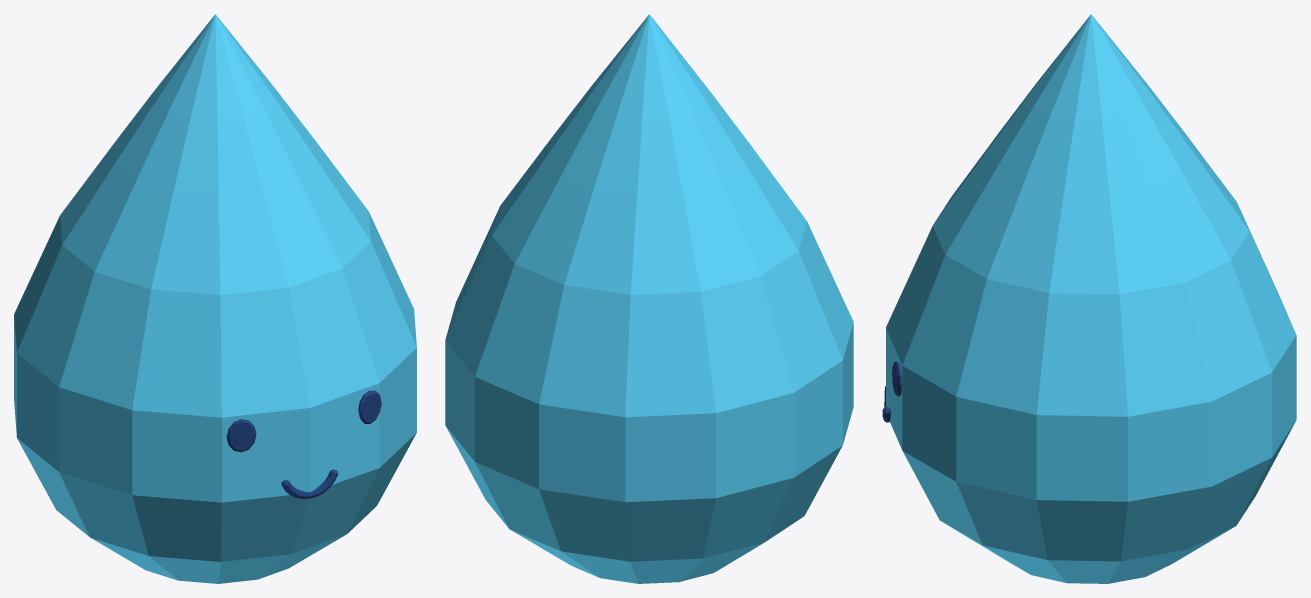
File: CH_Water.glb
3 views of the same model, side by side, from view 1: azimuth 30°, elevation 25°; view 2: azimuth 150°, elevation 25°; view 3: azimuth 270°, elevation 25° (orthographic).
Parts seen in each view (by area): view 1: CH_Water; view 2: CH_Water; view 3: CH_Water.
Part boxes in pixels (x1=…): CH_Water: x1=14, y1=14, x2=416, y2=583; CH_Water: x1=445, y1=14, x2=853, y2=583; CH_Water: x1=882, y1=14, x2=1296, y2=583.
Bounding box in the file's own units: 27.05 × 40.67 × 27.7.
1 material, 1 textured.
